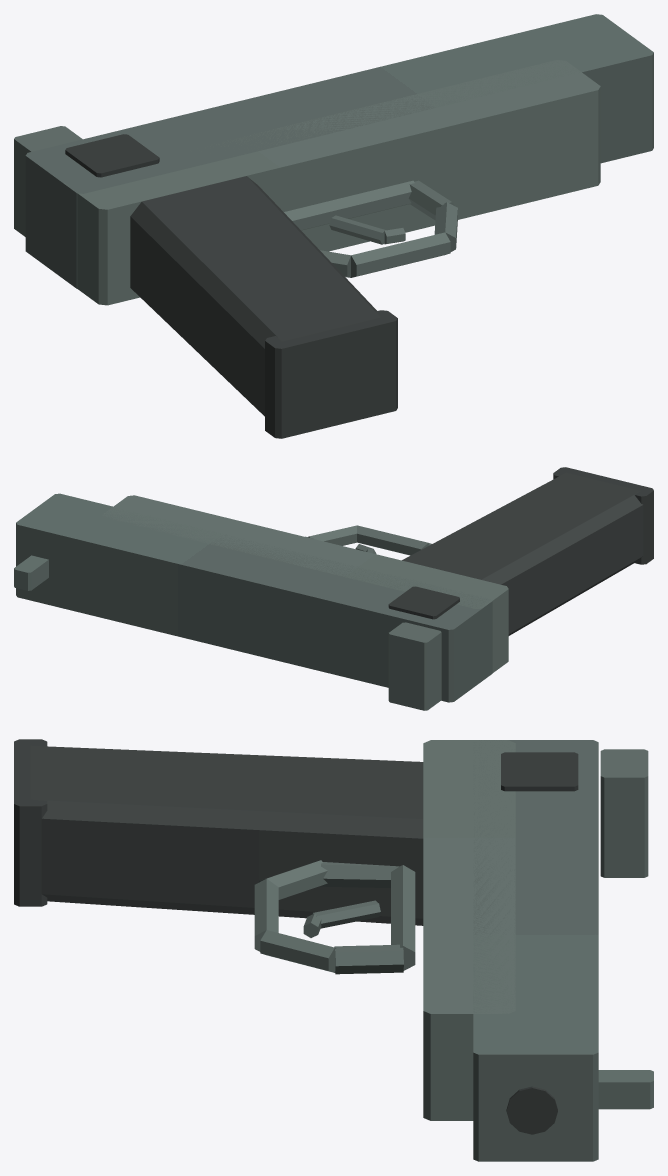
File: weapon-glock-17.glb
3 views of the same model, one above another, from view 1: azimuth 30°, elevation 25°; view 2: azimuth 150°, elevation 25°; view 3: azimuth 270°, elevation 25° (orthographic). The views are drawn at different scales.
Parts seen in each view (by area): view 1: weapon-glock-17/lower-frame, weapon-glock-17/flat-slide, weapon-glock-17/eight-sided-grip, weapon-glock-17/eight-sided-grip-heel, weapon-glock-17/hollow-trigger-guard-1, weapon-glock-17/slide-rear-serrations-left, weapon-glock-17/hollow-trigger-guard-4, weapon-glock-17/rear-sight, weapon-glock-17/hollow-trigger-guard-trigger-1, weapon-glock-17/hollow-trigger-guard-2, weapon-glock-17/hollow-trigger-guard-3; view 2: weapon-glock-17/flat-slide, weapon-glock-17/eight-sided-grip, weapon-glock-17/lower-frame, weapon-glock-17/rear-sight, weapon-glock-17/eight-sided-grip-heel, weapon-glock-17/slide-rear-serrations-left, weapon-glock-17/hollow-trigger-guard-4, weapon-glock-17/front-sight, weapon-glock-17/hollow-trigger-guard-3; view 3: weapon-glock-17/eight-sided-grip, weapon-glock-17/flat-slide, weapon-glock-17/lower-frame, weapon-glock-17/rear-sight, weapon-glock-17/eight-sided-grip-heel, weapon-glock-17/slide-rear-serrations-left, weapon-glock-17/front-sight, weapon-glock-17/hollow-trigger-guard-1, weapon-glock-17/hollow-trigger-guard-2, weapon-glock-17/muzzle-dark-disc, weapon-glock-17/hollow-trigger-guard-3, weapon-glock-17/hollow-trigger-guard-6 (+3 smaller).
Part boxes in pixels (box(x1,y1,x2,y2)): weapon-glock-17/lower-frame: box(64, 60, 600, 305); weapon-glock-17/flat-slide: box(25, 14, 653, 288); weapon-glock-17/eight-sided-grip: box(130, 176, 380, 416); weapon-glock-17/eight-sided-grip-heel: box(265, 310, 397, 438); weapon-glock-17/hollow-trigger-guard-1: box(284, 180, 414, 230); weapon-glock-17/slide-rear-serrations-left: box(65, 134, 159, 177); weapon-glock-17/hollow-trigger-guard-4: box(351, 232, 450, 277); weapon-glock-17/rear-sight: box(14, 126, 82, 236); weapon-glock-17/hollow-trigger-guard-trigger-1: box(329, 215, 385, 244); weapon-glock-17/hollow-trigger-guard-2: box(408, 180, 454, 219); weapon-glock-17/hollow-trigger-guard-3: box(434, 202, 457, 251); weapon-glock-17/flat-slide: box(16, 493, 492, 702); weapon-glock-17/eight-sided-grip: box(402, 472, 643, 635); weapon-glock-17/lower-frame: box(102, 495, 508, 672); weapon-glock-17/rear-sight: box(388, 622, 441, 710); weapon-glock-17/eight-sided-grip-heel: box(553, 467, 653, 564); weapon-glock-17/slide-rear-serrations-left: box(388, 586, 459, 619); weapon-glock-17/hollow-trigger-guard-4: box(357, 525, 431, 555); weapon-glock-17/front-sight: box(14, 555, 48, 590); weapon-glock-17/hollow-trigger-guard-3: box(308, 525, 356, 545); weapon-glock-17/eight-sided-grip: box(30, 745, 423, 925); weapon-glock-17/flat-slide: box(473, 740, 598, 1161); weapon-glock-17/lower-frame: box(423, 740, 515, 1120); weapon-glock-17/rear-sight: box(600, 749, 648, 877); weapon-glock-17/eight-sided-grip-heel: box(14, 739, 47, 906); weapon-glock-17/slide-rear-serrations-left: box(501, 752, 578, 791); weapon-glock-17/front-sight: box(598, 1070, 653, 1109); weapon-glock-17/hollow-trigger-guard-1: box(391, 865, 415, 970); weapon-glock-17/hollow-trigger-guard-2: box(334, 944, 403, 974); weapon-glock-17/muzzle-dark-disc: box(506, 1086, 557, 1134); weapon-glock-17/hollow-trigger-guard-3: box(260, 930, 336, 972); weapon-glock-17/hollow-trigger-guard-6: box(321, 862, 399, 887).
Bounding box in the file's own units: 0.2065 × 0.0348 × 0.1735.
Materials: 2 (2 with a texture image).
